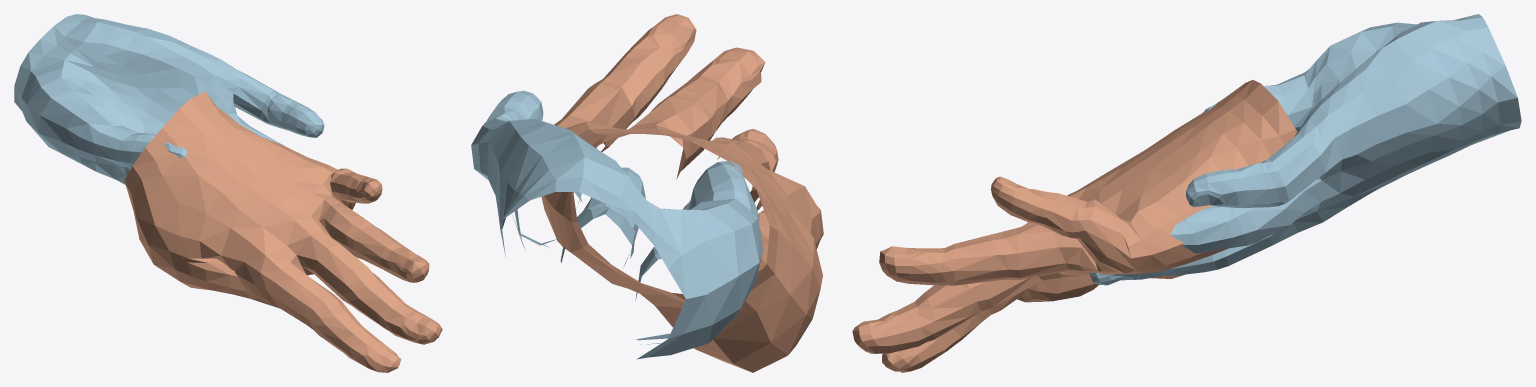
Rendered from frame_022.glb.
The picture shows the model from 3 angles, left to right: view 1: azimuth 30°, elevation 25°; view 2: azimuth 150°, elevation 25°; view 3: azimuth 270°, elevation 25°; orthographic projection. The views are drawn at different scales.
Visible parts, largest first — view 1: world; view 2: world; view 3: world.
Part boxes in pixels (x1,y1,x2,y2): world: [14, 14, 442, 372]; world: [471, 14, 823, 372]; world: [852, 14, 1521, 372].
Bounding box in the file's own units: 0.1184 × 0.114 × 0.2342.
